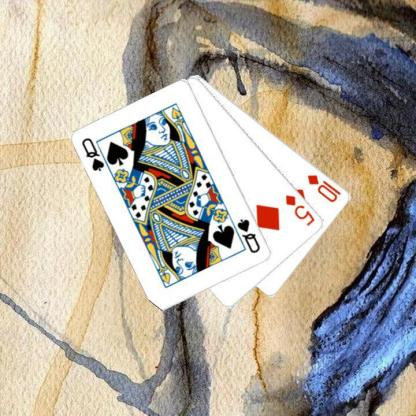10D: (305, 172, 343, 204)
5D: (283, 192, 317, 228)
QS: (234, 216, 262, 255), (79, 135, 106, 173)
